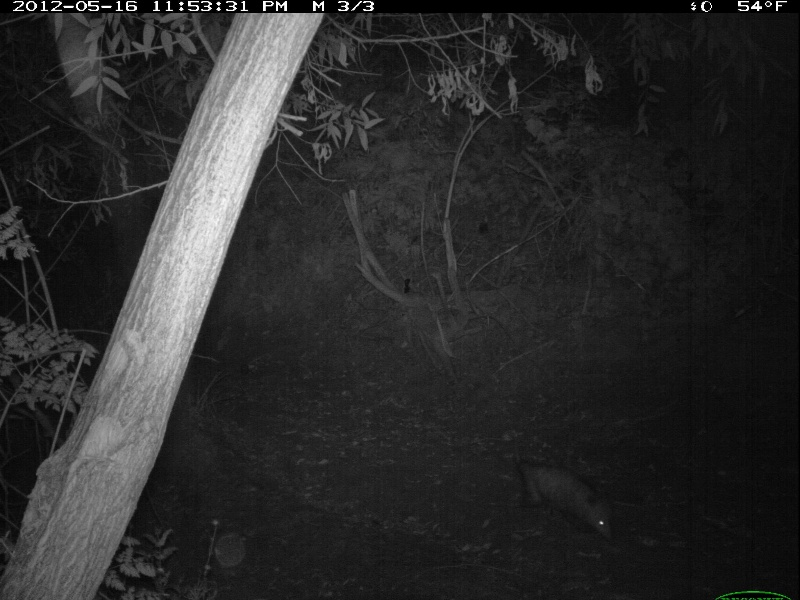opossum: (488, 435, 616, 539)
